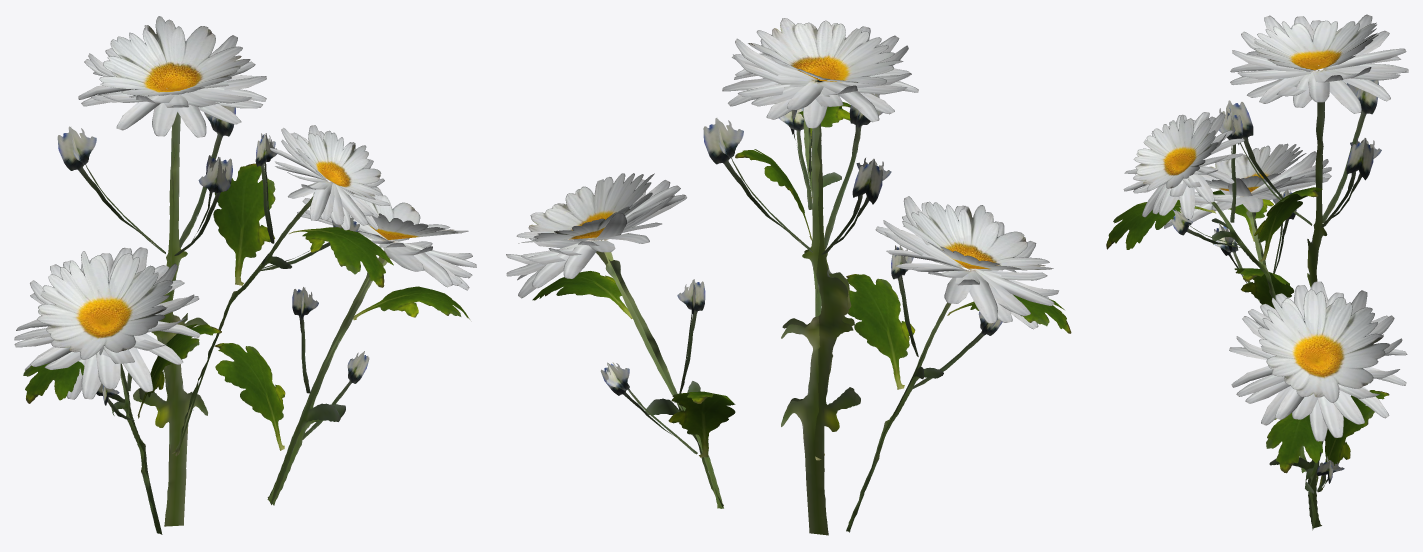
3 views of the same model, side by side, from view 1: azimuth 30°, elevation 25°; view 2: azimuth 150°, elevation 25°; view 3: azimuth 270°, elevation 25° (orthographic). The views are drawn at different scales.
Visible parts, largest first — view 1: 4b5c7d8b; view 2: 4b5c7d8b; view 3: 4b5c7d8b.
Part boxes in pixels (x1,y1,x2,y2): 4b5c7d8b: (14,16,476,534); 4b5c7d8b: (506,18,1071,535); 4b5c7d8b: (1106,14,1408,530).
Size of the model in its own units: 0.1002 by 0.0978 by 0.0576.
Materials: 2 (2 with a texture image).
